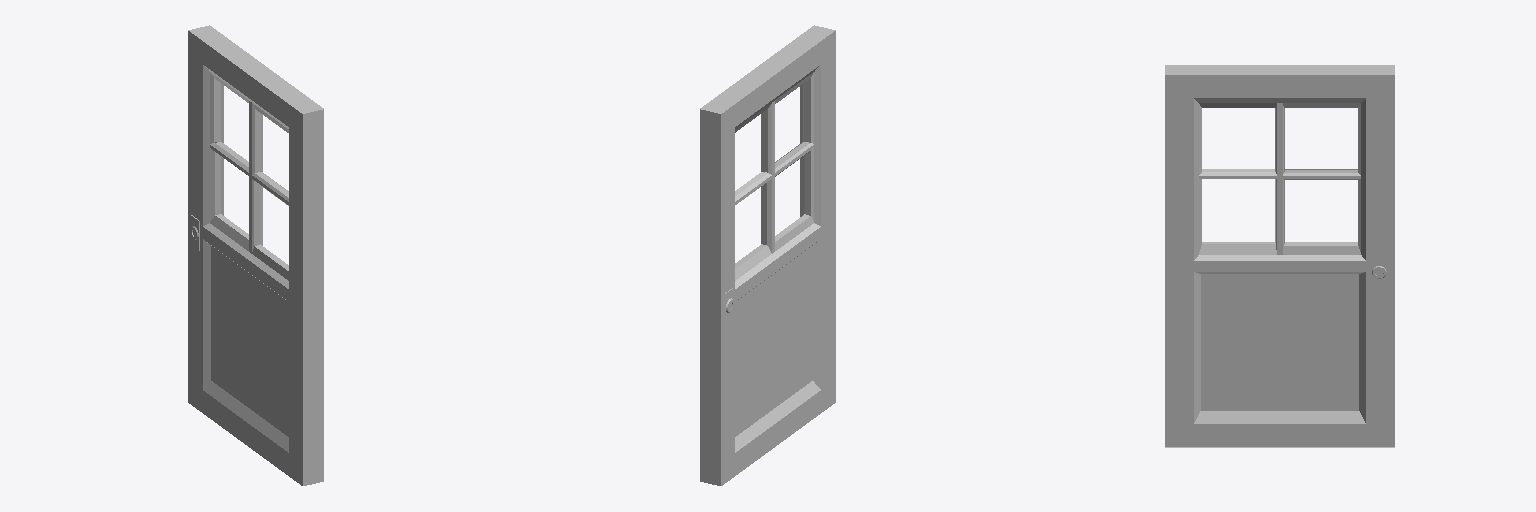
The model's file is Door.obj.
The picture shows the model from 3 angles: view 1: azimuth 30°, elevation 25°; view 2: azimuth 150°, elevation 25°; view 3: azimuth 270°, elevation 25°; orthographic projection.
Parts seen in each view (by area): view 1: Door_Front_Cube.001; view 2: Door_Front_Cube.001; view 3: Door_Front_Cube.001.
Part boxes in pixels (x1,y1,x2,y2): Door_Front_Cube.001: (188, 25, 323, 485); Door_Front_Cube.001: (700, 25, 835, 485); Door_Front_Cube.001: (1165, 65, 1394, 447).
Bounding box in the file's own units: 0.5784 × 8.25 × 4.6.